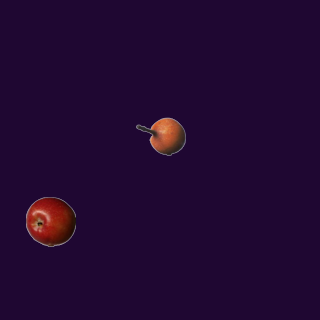Apple Braeburn: (25, 196, 75, 246)
Granadilla: (135, 111, 185, 161)
